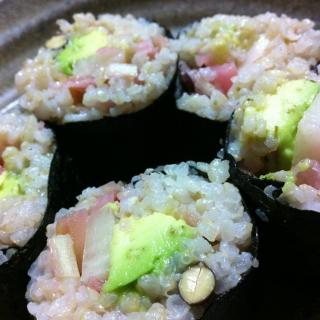Sushi: (10, 28, 288, 307)
